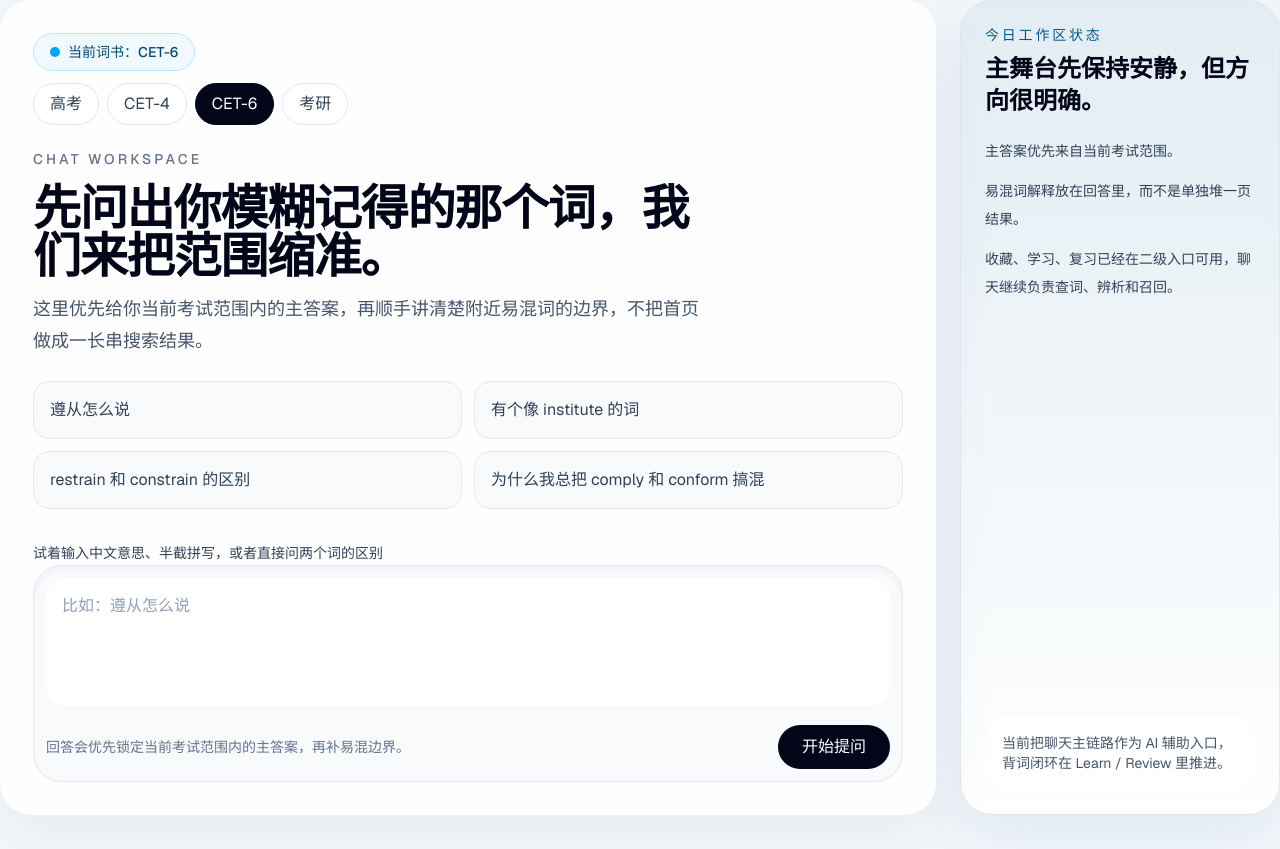
it: ChatWorkspace › submits the prompt and renders the structured answer
Click the button "遵从怎么说": (90, 410) [33, 381, 462, 439]
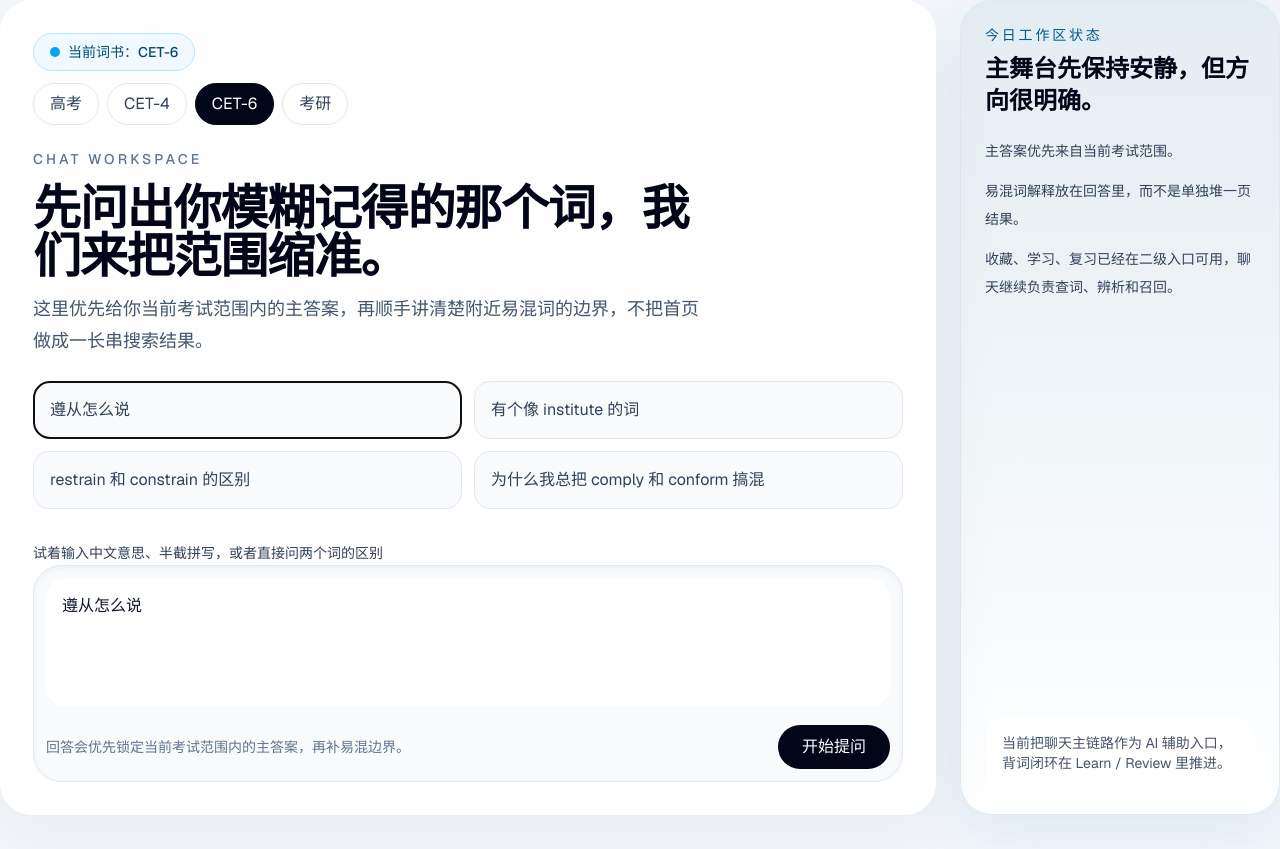
Click the button "开始提问": (834, 747) [778, 725, 890, 769]
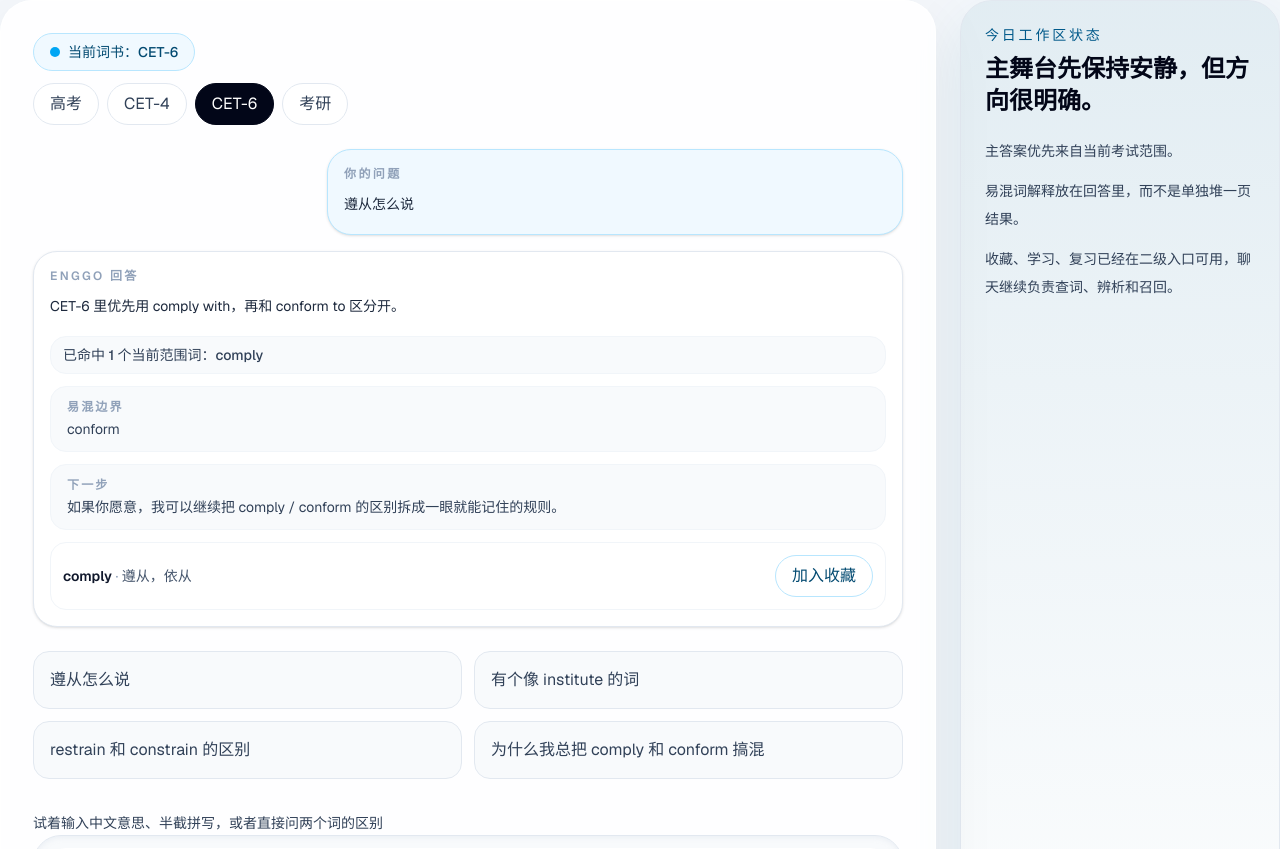
Now the text "CET-6 里优先用 comply with，再和 conform to 区分开。" is shown, box [50, 297, 405, 315]
Now the text "conform" is shown, box [67, 420, 120, 438]
Now the text "下一步" is shown, box [67, 477, 110, 493]
